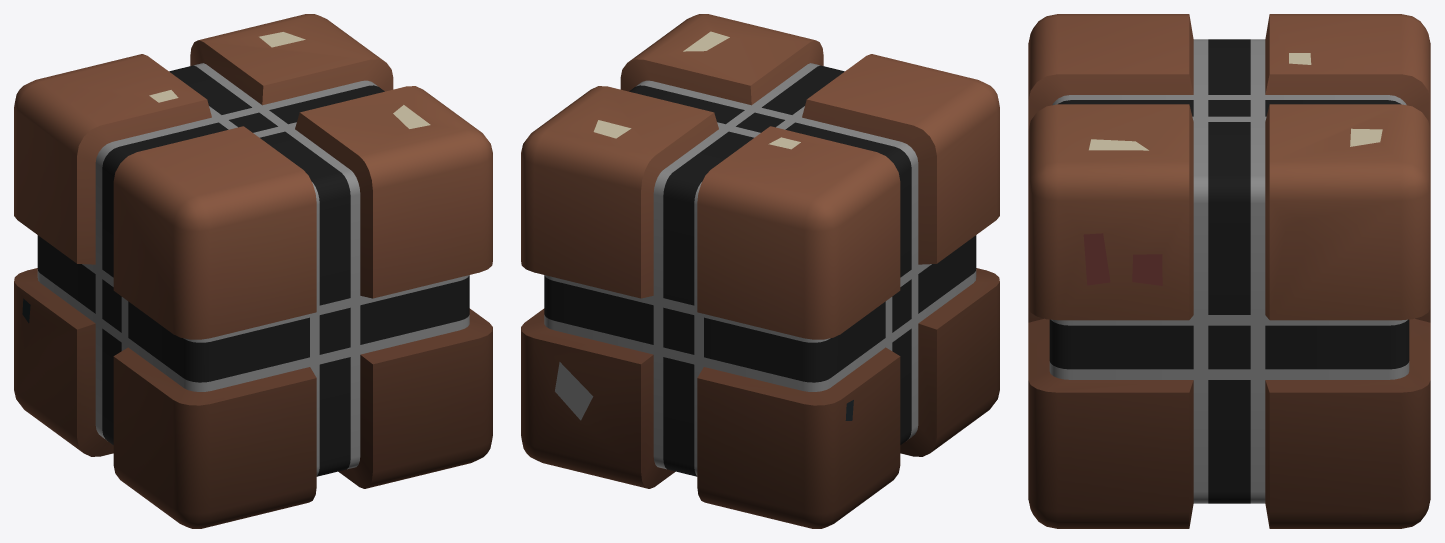
File: Box1Big.fbx
3 views of the same model, side by side, from view 1: azimuth 30°, elevation 25°; view 2: azimuth 150°, elevation 25°; view 3: azimuth 270°, elevation 25° (orthographic). The views are drawn at different scales.
Visible parts, largest first — view 1: Box1Big; view 2: Box1Big; view 3: Box1Big.
Part boxes in pixels (box(x1,y1,x2,y2)): Box1Big: box(14, 14, 492, 528); Box1Big: box(521, 14, 999, 528); Box1Big: box(1028, 14, 1430, 528).
Bounding box in the file's own units: 1.4 × 1.4 × 1.4.
